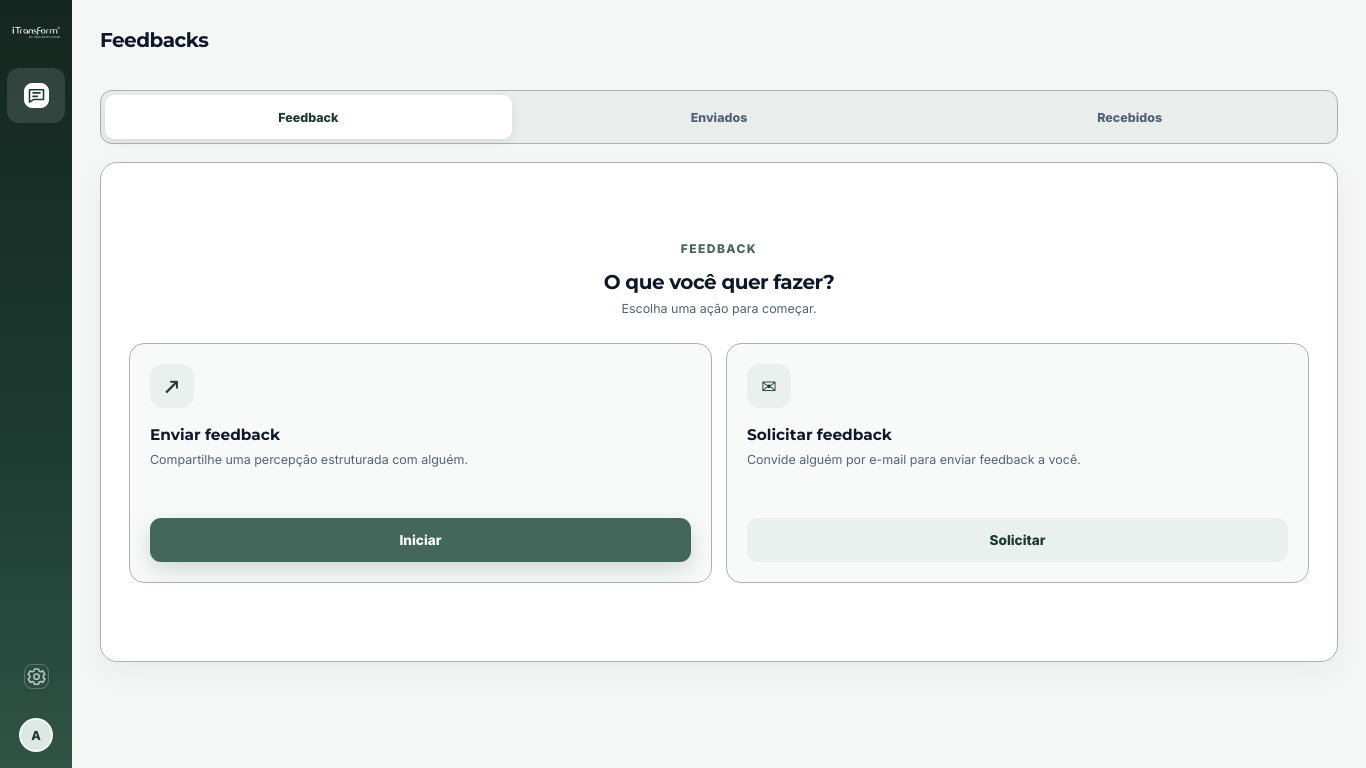
it: iTransform Pulse app › cancels a feedback request without sending it
Click the button "Solicitar". click: [1018, 540]
box: [747,518,1288,562]
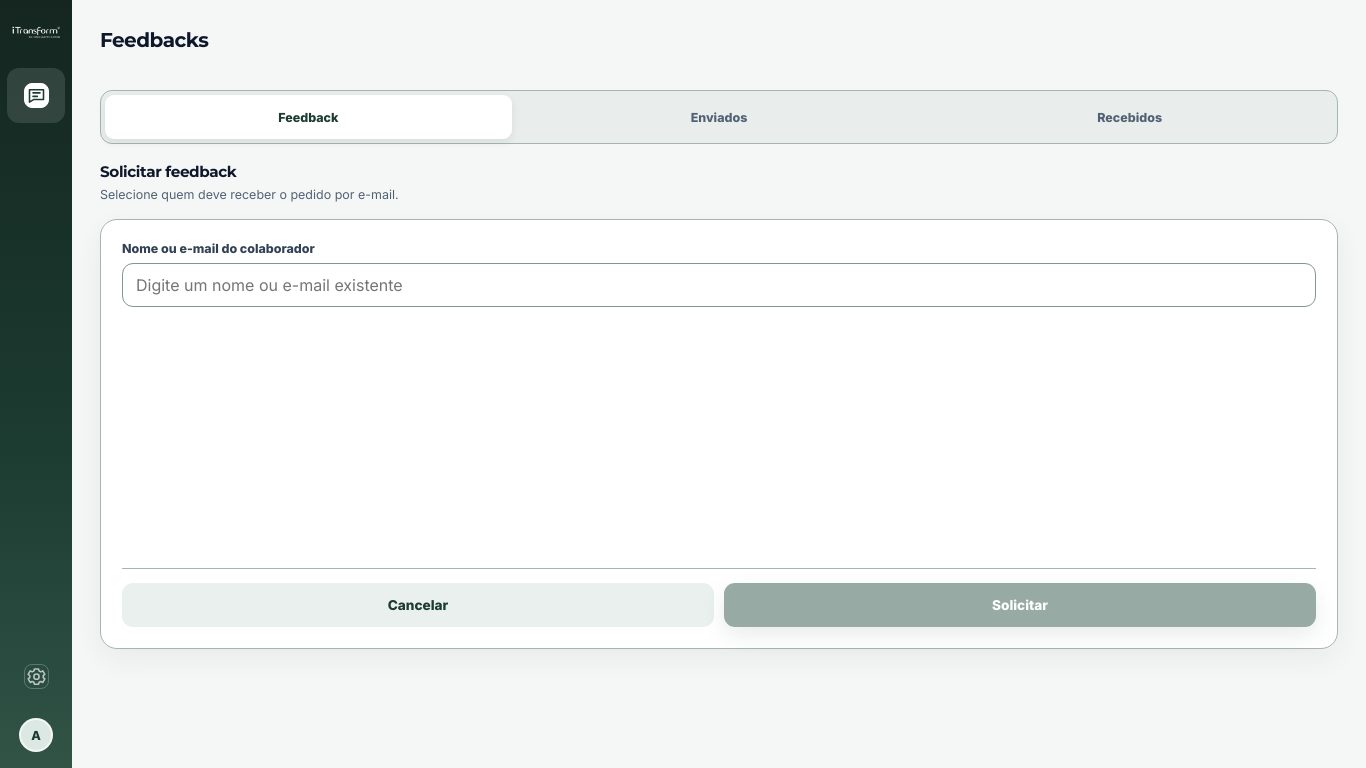
Click the button "Cancelar". click: [418, 605]
box: [122,583,714,627]
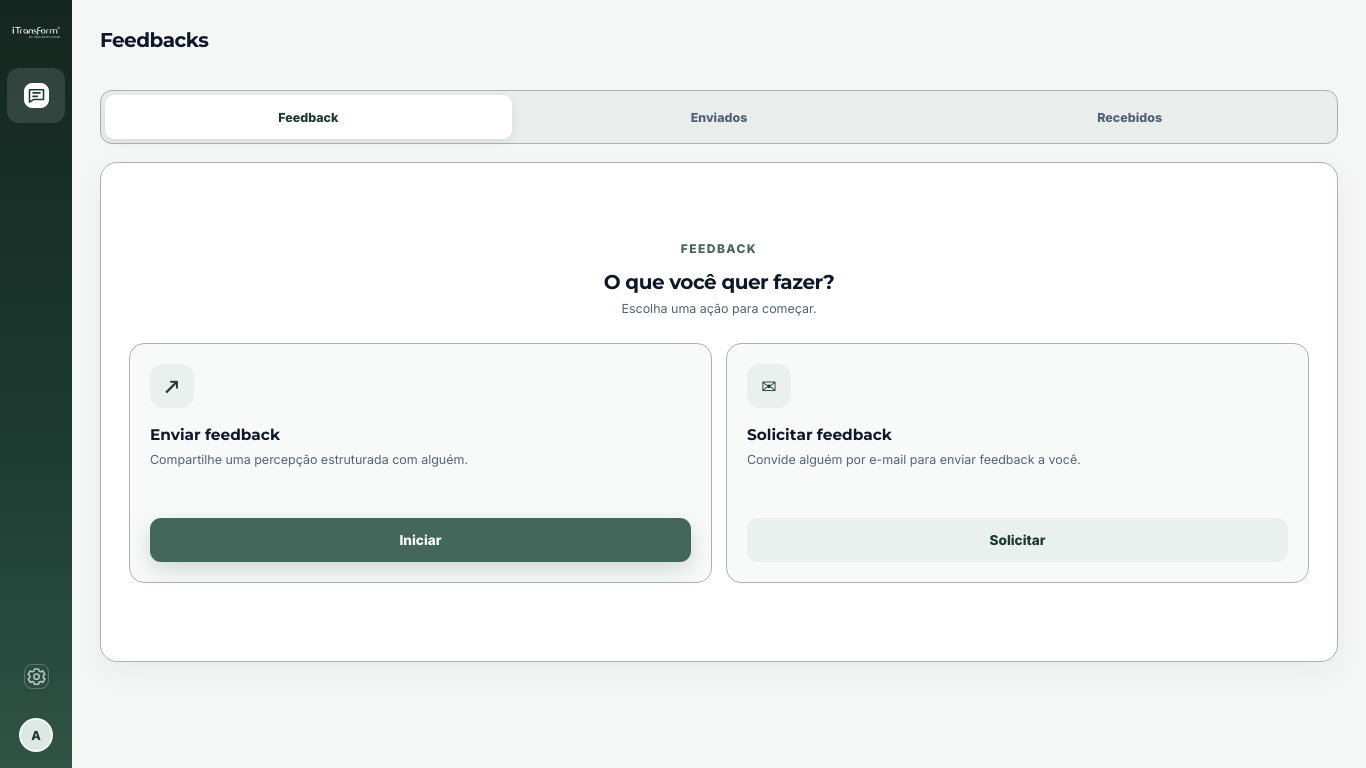
Check: the heading "O que você quer fazer?" is shown, box [604,270,834,294]
